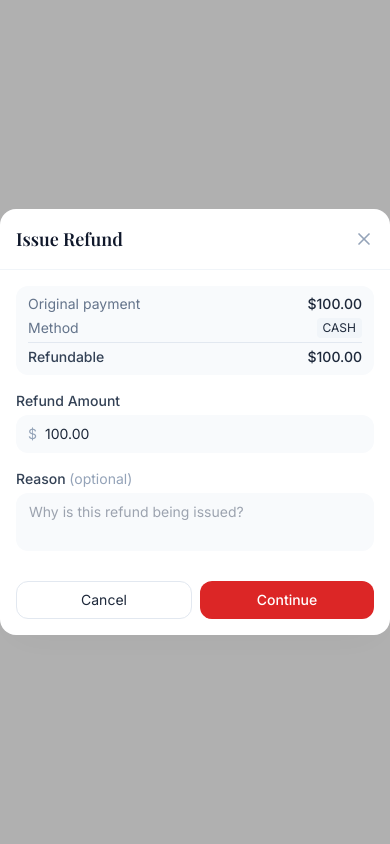
it: RefundModal › validates amount exceeds refundable
Replace the text in the number field with "150" at (195, 434), box x1=16 y1=415 x2=374 y2=453
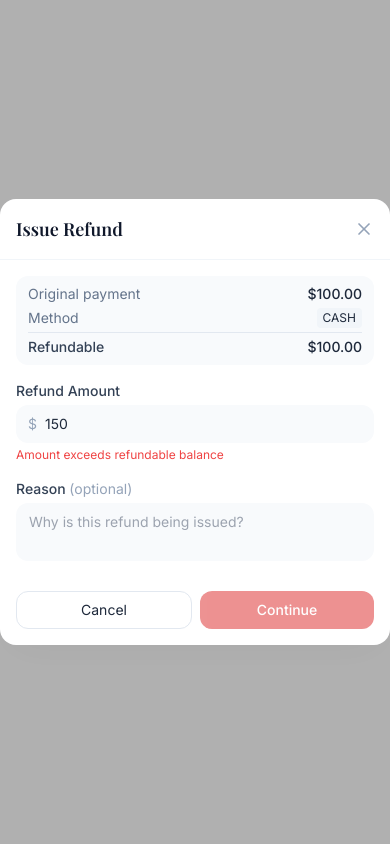
Expected: the text "Amount exceeds refundable balance" is shown, x1=16 y1=447 x2=224 y2=462
